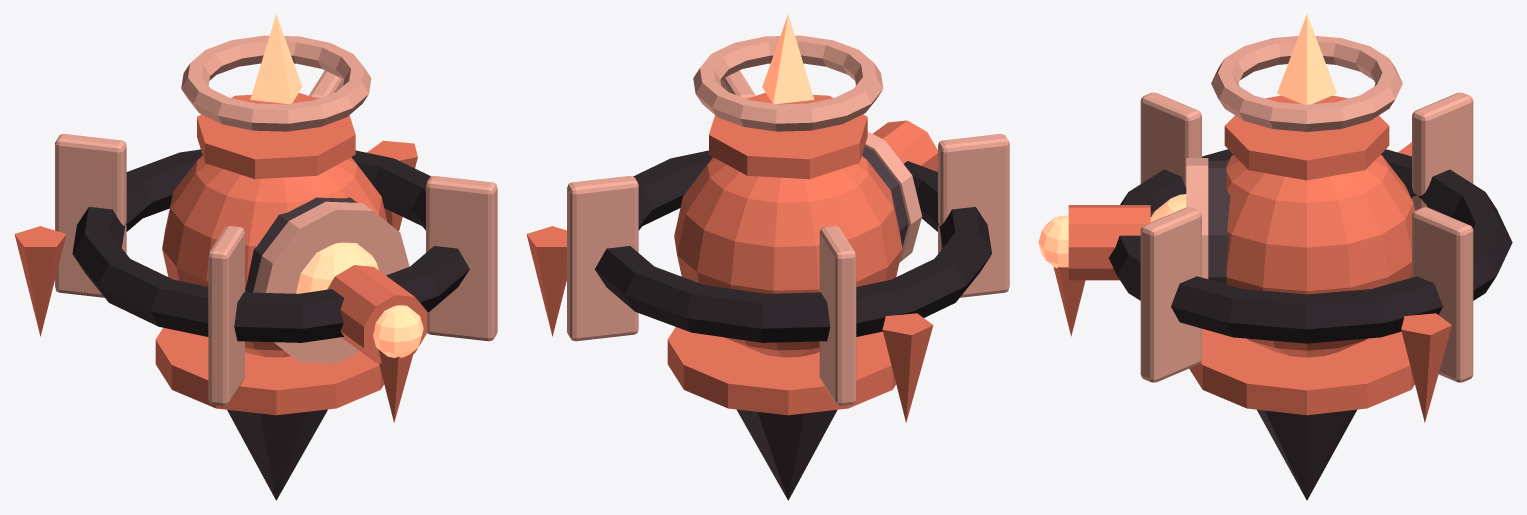
File: SM_Sentinel.glb
3 renders of one model, left to right at view 1: azimuth 30°, elevation 25°; view 2: azimuth 150°, elevation 25°; view 3: azimuth 270°, elevation 25°, orthographic.
Visible parts, largest first — view 1: SM_Sentinel; view 2: SM_Sentinel; view 3: SM_Sentinel.
Part boxes in pixels (box(x1,y1,x2,y2)): SM_Sentinel: box(14, 14, 497, 500); SM_Sentinel: box(526, 14, 1009, 500); SM_Sentinel: box(1038, 14, 1512, 500).
Size of what is drawn, in the model's own units: 1.68 by 1.96 by 1.73.
